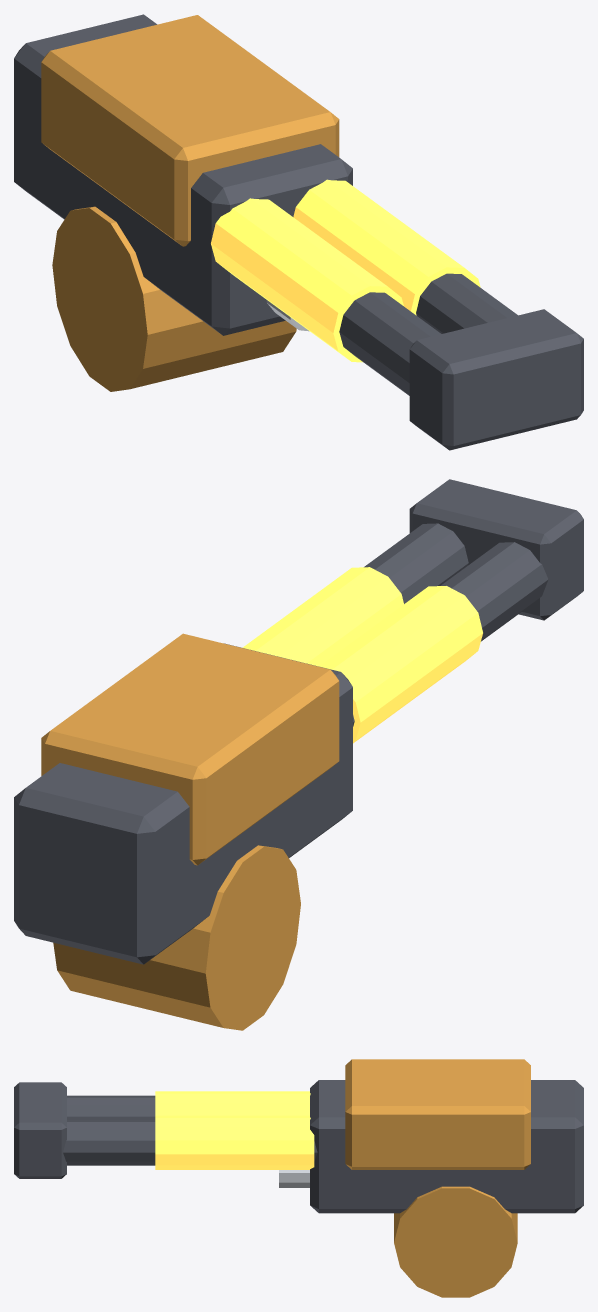
File: arma_thermatek_canhao_escoria.glb
3 views of the same model, one above another, from view 1: azimuth 30°, elevation 25°; view 2: azimuth 150°, elevation 25°; view 3: azimuth 270°, elevation 25° (orthographic). The views are drawn at different scales.
Visible parts, largest first — view 1: ArmorShroud, Receiver, Slag_Drum, Muzzle_Brake, HeatJacket_-0.065, HeatJacket_0.065, Barrel_-0.065, Barrel_0.065; view 2: Receiver, ArmorShroud, Slag_Drum, HeatJacket_-0.065, Muzzle_Brake, HeatJacket_0.065, Barrel_-0.065, Barrel_0.065; view 3: ArmorShroud, Receiver, Slag_Drum, HeatJacket_0.065, Muzzle_Brake, Barrel_0.065, HeatJacket_-0.065, Barrel_-0.065, Recoil_Piston.
Boxes of the visible parts, x1,y1,x2,y2 form: ArmorShroud: (41, 15, 339, 246); Receiver: (14, 14, 352, 335); Slag_Drum: (52, 206, 296, 391); Muzzle_Brake: (409, 309, 583, 450); HeatJacket_-0.065: (211, 198, 403, 362); HeatJacket_0.065: (293, 179, 480, 315); Barrel_-0.065: (339, 292, 441, 395); Barrel_0.065: (416, 273, 517, 333); Receiver: (14, 643, 352, 964); ArmorShroud: (41, 633, 339, 865); Slag_Drum: (53, 845, 300, 1030); HeatJacket_-0.065: (319, 586, 482, 743); Muzzle_Brake: (409, 479, 583, 620); HeatJacket_0.065: (242, 567, 403, 666); Barrel_-0.065: (353, 542, 548, 726); Barrel_0.065: (364, 523, 468, 603); ArmorShroud: (345, 1059, 530, 1169); Receiver: (310, 1080, 583, 1213); Slag_Drum: (394, 1186, 517, 1297); HeatJacket_0.065: (155, 1115, 314, 1169); Muzzle_Brake: (14, 1082, 66, 1178); Barrel_0.065: (63, 1120, 317, 1165); HeatJacket_-0.065: (155, 1091, 310, 1115); Barrel_-0.065: (67, 1095, 155, 1119); Recoil_Piston: (279, 1170, 309, 1187).
Size of the model in its own units: 0.28 by 0.4765 by 1.29.
